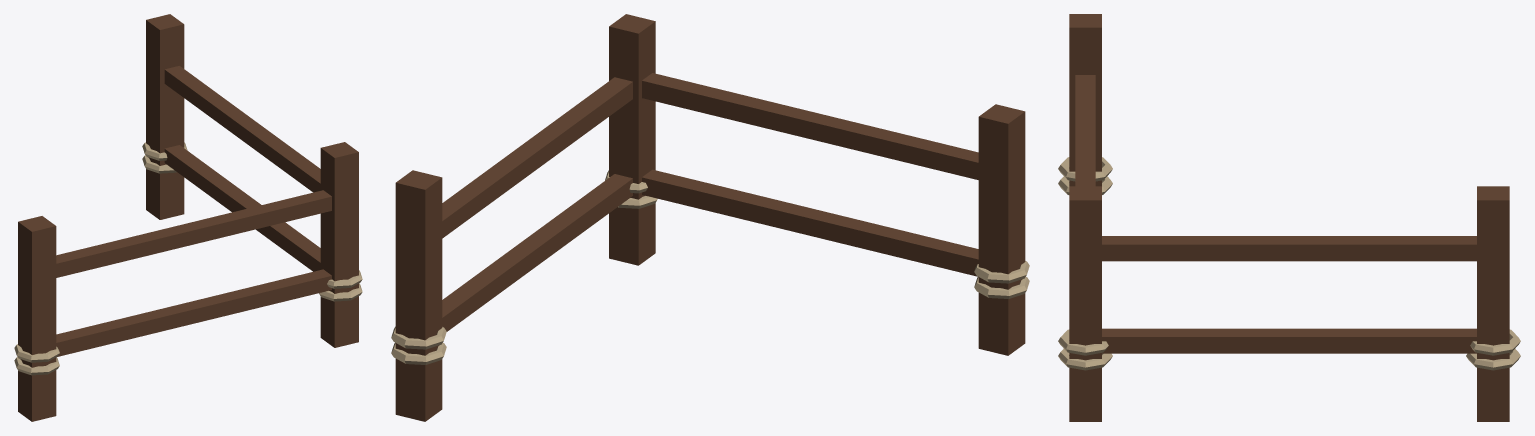
The model's file is PirateCove_FenceCorner_Simple.glb.
3 renders of one model, left to right at view 1: azimuth 30°, elevation 25°; view 2: azimuth 150°, elevation 25°; view 3: azimuth 270°, elevation 25°, orthographic. The views are drawn at different scales.
Parts seen in each view (by area): view 1: PirateCove_FenceCorner_Simple; view 2: PirateCove_FenceCorner_Simple; view 3: PirateCove_FenceCorner_Simple.
Boxes of the visible parts, x1,y1,x2,y2 form: PirateCove_FenceCorner_Simple: [14, 14, 362, 421]; PirateCove_FenceCorner_Simple: [391, 14, 1029, 421]; PirateCove_FenceCorner_Simple: [1058, 14, 1520, 421].
Size of the model in its own units: 2.27 by 1.2 by 2.27.
